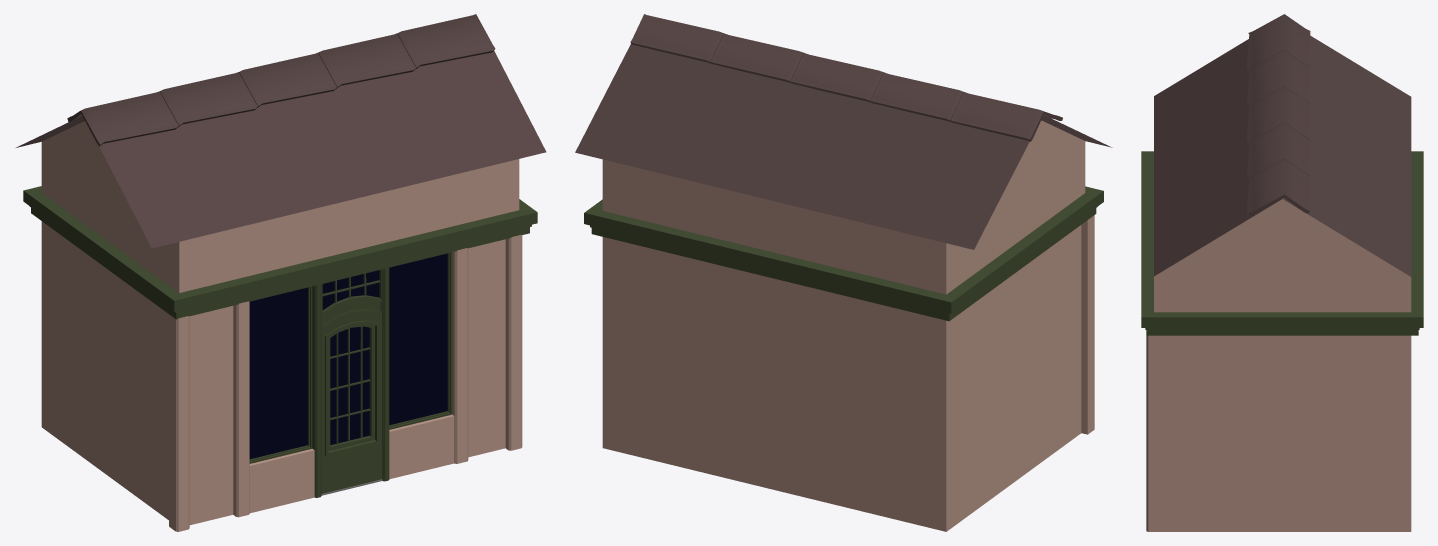
File: House_3_v2.fbx
3 renders of one model, left to right at view 1: azimuth 30°, elevation 25°; view 2: azimuth 150°, elevation 25°; view 3: azimuth 270°, elevation 25°, orthographic. The views are drawn at different scales.
Visible parts, largest first — view 1: Box001, Object028, Box008, Object, Object001, Box014, Box002, Box005, Object004, Box003, Box004, Box897 (+14 smaller); view 2: Box001, Object028, Box008, Box002, Box897, Box898, Box899, Box900, Box901; view 3: Box001, Object028, Box008, Box901, Box897, Box898, Box899, Box900, Box005.
Boxes of the visible parts, x1=… form: Box001: x1=41, y1=121, x2=519, y2=525; Object028: x1=16, y1=50, x2=546, y2=248; Box008: x1=23, y1=186, x2=537, y2=319; Object: x1=249, y1=287, x2=307, y2=459; Object001: x1=389, y1=253, x2=447, y2=425; Box014: x1=321, y1=310, x2=382, y2=493; Box002: x1=169, y1=314, x2=189, y2=531; Box005: x1=505, y1=234, x2=522, y2=450; Object004: x1=330, y1=326, x2=369, y2=445; Box003: x1=233, y1=301, x2=249, y2=517; Box004: x1=452, y1=248, x2=468, y2=463; Box897: x1=67, y1=91, x2=178, y2=146; Box001: x1=602, y1=120, x2=1085, y2=531; Object028: x1=575, y1=44, x2=1112, y2=249; Box008: x1=584, y1=186, x2=1103, y2=321; Box002: x1=1081, y1=215, x2=1094, y2=434; Box897: x1=950, y1=92, x2=1062, y2=141; Box898: x1=870, y1=72, x2=966, y2=122; Box899: x1=790, y1=53, x2=886, y2=102; Box900: x1=710, y1=33, x2=807, y2=83; Box901: x1=630, y1=14, x2=727, y2=63; Box001: x1=1154, y1=199, x2=1411, y2=531; Object028: x1=1154, y1=35, x2=1411, y2=276; Box008: x1=1141, y1=151, x2=1423, y2=335; Box901: x1=1247, y1=158, x2=1310, y2=215; Box897: x1=1247, y1=14, x2=1310, y2=70; Box898: x1=1247, y1=50, x2=1310, y2=106; Box899: x1=1247, y1=86, x2=1310, y2=142; Box900: x1=1247, y1=122, x2=1310, y2=178; Box005: x1=1146, y1=335, x2=1153, y2=531.
Bounding box in the file's own units: 391 × 353 × 258.
